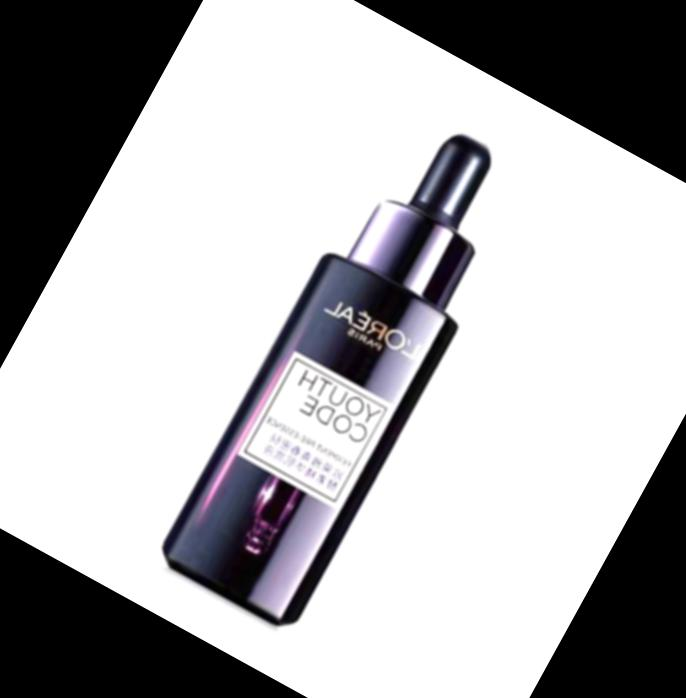cosmetic: (157, 103, 540, 632)
